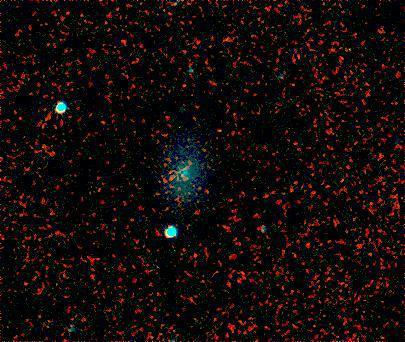star: (208, 115, 238, 145)
